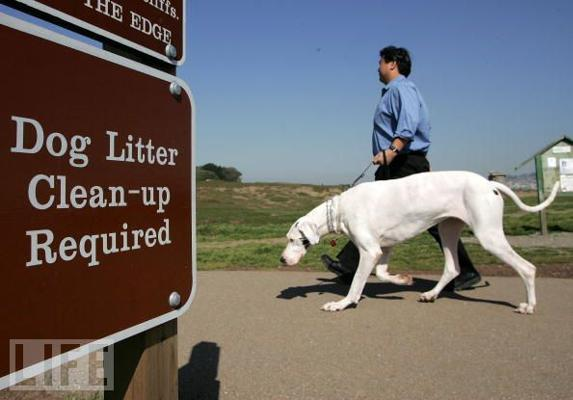person: (320, 45, 483, 293)
